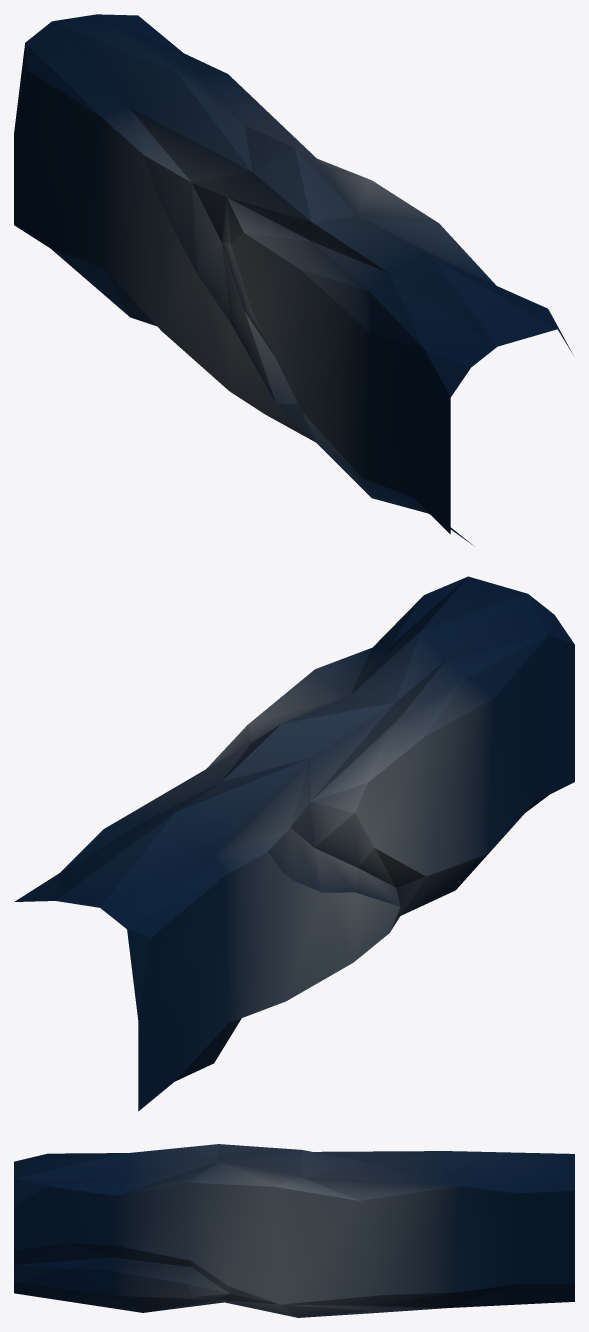
Rendered from BedrockBlock.gltf.
3 views of the same model, one above another, from view 1: azimuth 30°, elevation 25°; view 2: azimuth 150°, elevation 25°; view 3: azimuth 270°, elevation 25° (orthographic). The views are drawn at different scales.
Parts seen in each view (by area): view 1: BedrockBlockMesh; view 2: BedrockBlockMesh; view 3: BedrockBlockMesh.
Part boxes in pixels (x1,y1,x2,y2): BedrockBlockMesh: (14, 14, 573, 545); BedrockBlockMesh: (14, 576, 574, 1111); BedrockBlockMesh: (14, 1144, 574, 1317).
Bounding box in the file's own units: 1.5 × 2.87 × 9.13.
